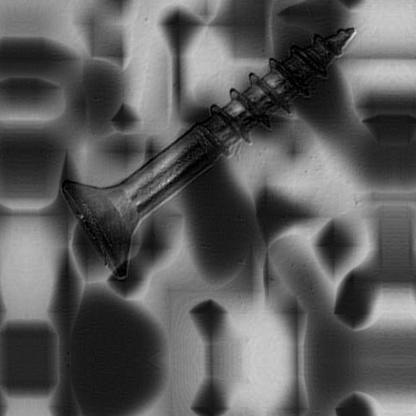metal: (59, 24, 358, 280)
